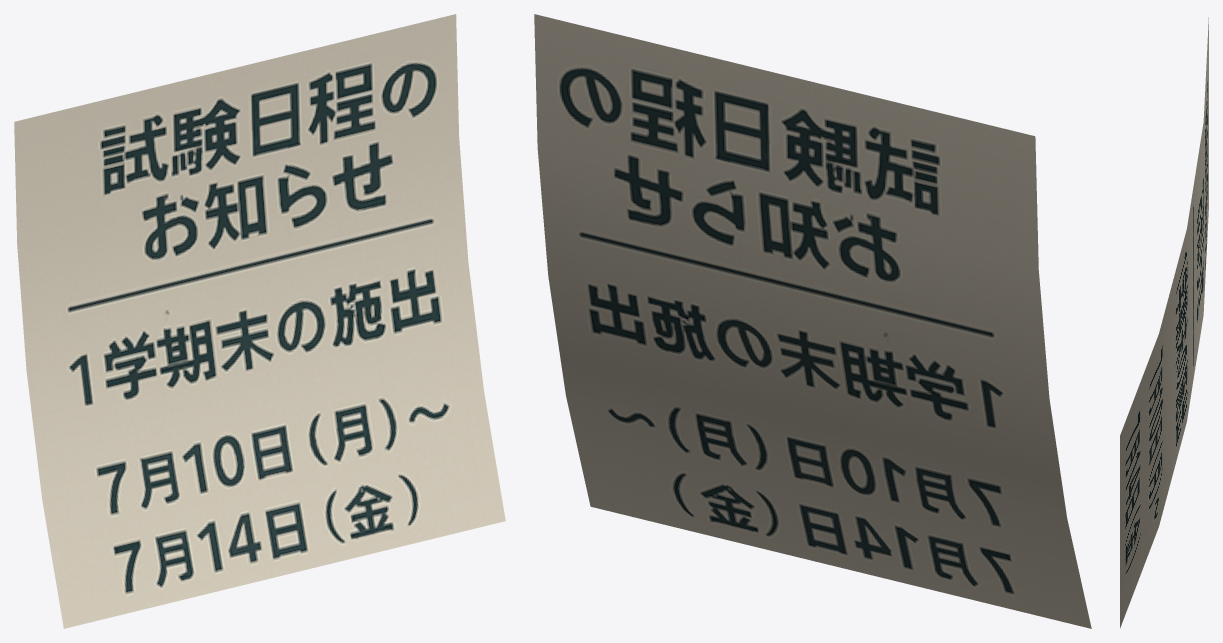
The model's file is SM_poster_board_04.fbx.
3 renders of one model, left to right at view 1: azimuth 30°, elevation 25°; view 2: azimuth 150°, elevation 25°; view 3: azimuth 270°, elevation 25°, orthographic. The views are drawn at different scales.
Visible parts, largest first — view 1: poster_bulletin05; view 2: poster_bulletin05; view 3: poster_bulletin05.
Part boxes in pixels (bbox=[...]): poster_bulletin05: bbox=[14, 14, 505, 628]; poster_bulletin05: bbox=[534, 14, 1091, 628]; poster_bulletin05: bbox=[1120, 17, 1208, 628].
Size of the model in its own units: 14.05 by 14.31 by 2.74.
Materials: 1 (1 with a texture image).
